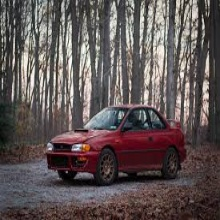no damage: (45, 103, 187, 183)
